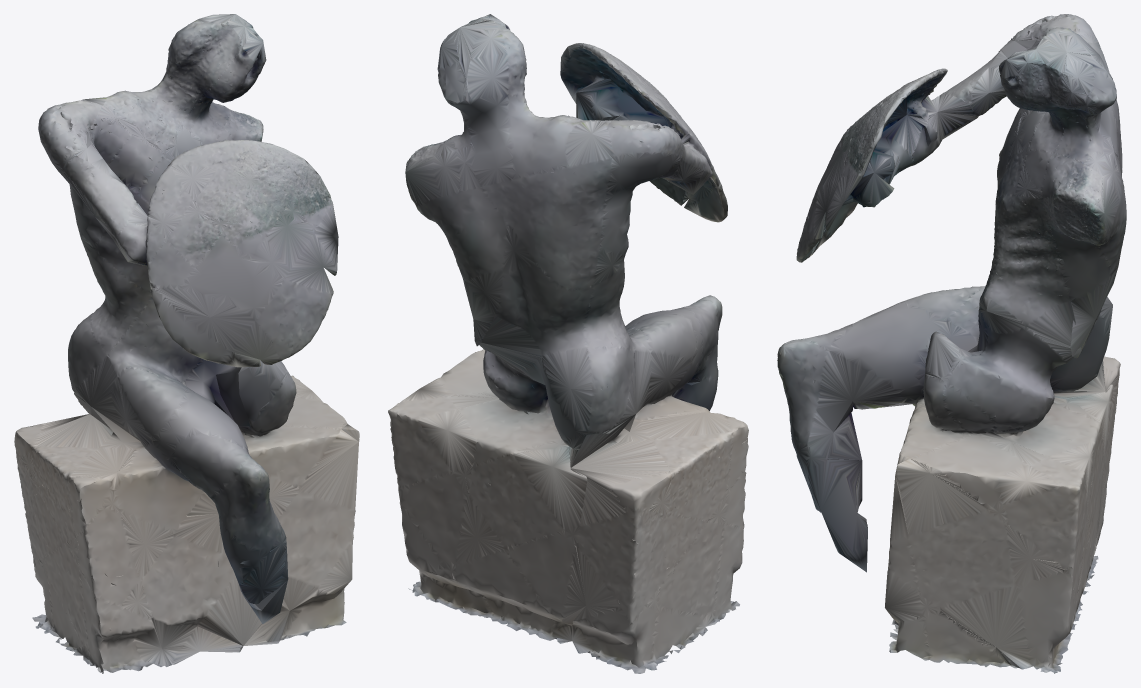
Rendered from preview.glb.
3 views of the same model, side by side, from view 1: azimuth 30°, elevation 25°; view 2: azimuth 150°, elevation 25°; view 3: azimuth 270°, elevation 25° (orthographic). The views are drawn at different scales.
Parts seen in each view (by area): view 1: Object_2; view 2: Object_2; view 3: Object_2.
Boxes of the visible parts, x1,y1,x2,y2 form: Object_2: (14,14,359,673); Object_2: (388,14,748,673); Object_2: (777,14,1126,673).
Bounding box in the file's own units: 4.56 × 8.89 × 4.63.
